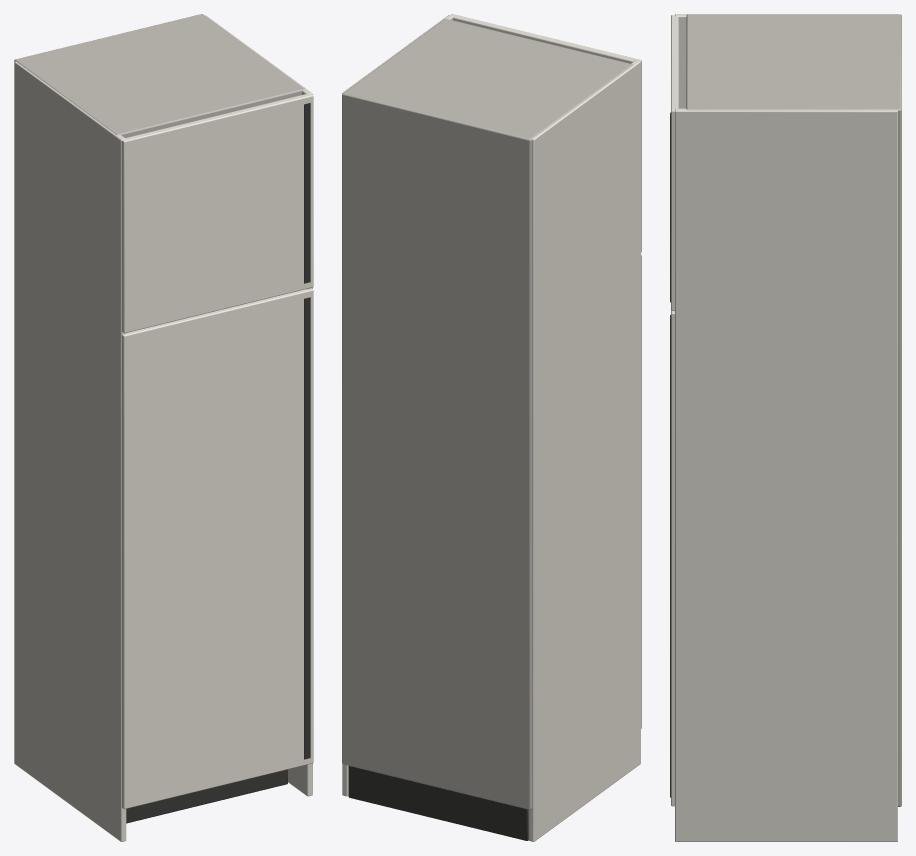
Rendered from fridge.fbx.
The picture shows the model from 3 angles, left to right: view 1: azimuth 30°, elevation 25°; view 2: azimuth 150°, elevation 25°; view 3: azimuth 270°, elevation 25°; orthographic projection. The views are drawn at different scales.
Visible parts, largest first — view 1: fridge; view 2: fridge; view 3: fridge.
Part boxes in pixels (x1=…): fridge: x1=14, y1=14, x2=313, y2=841; fridge: x1=342, y1=14, x2=641, y2=841; fridge: x1=670, y1=14, x2=901, y2=841.
Bounding box in the file's own units: 0.6 × 0.6025 × 2.1.
